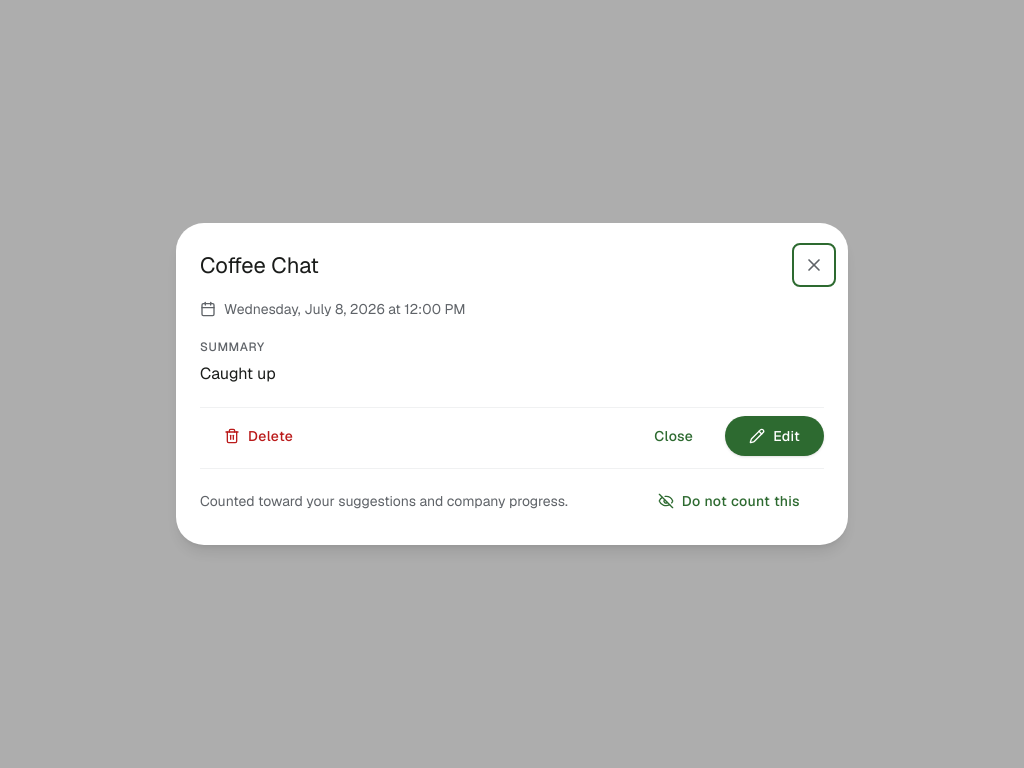
Scenario: interaction type editor › reveals the free-text field only under Other
Click the button "Edit". click: (775, 436)
box: top-left (725, 416), bottom-right (824, 456)
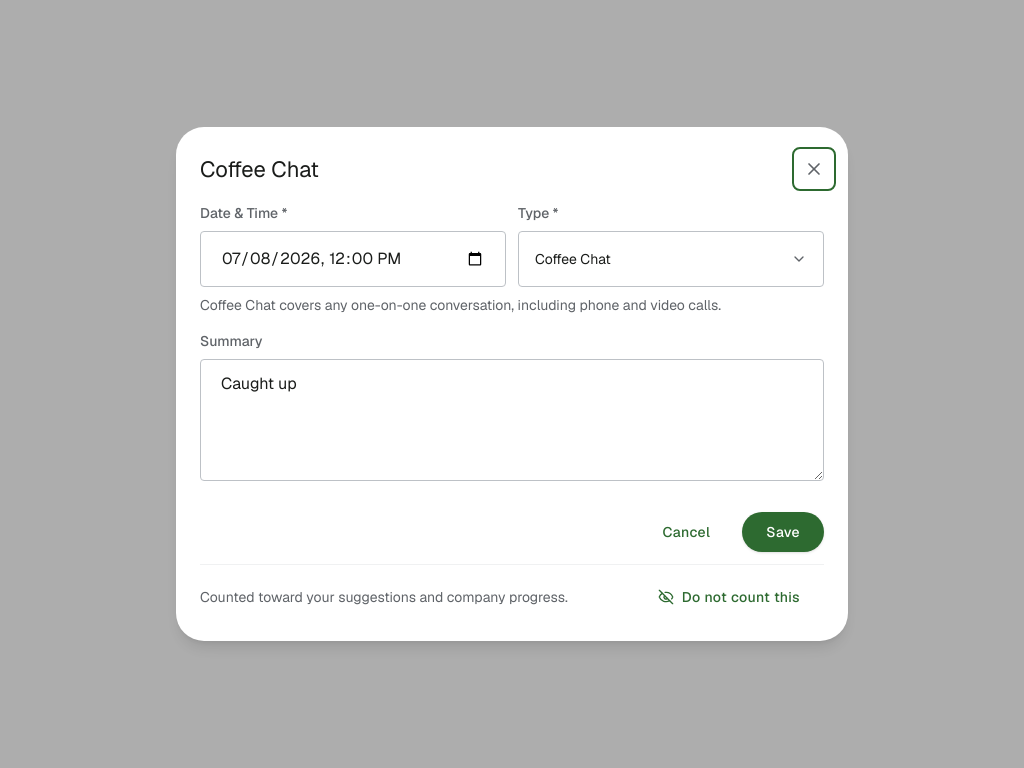
Expected: the field with placeholder "e.g. Alumni panel" is not shown
Click the dropdown named "Interaction type". click: (573, 259)
box: top-left (518, 231), bottom-right (824, 287)
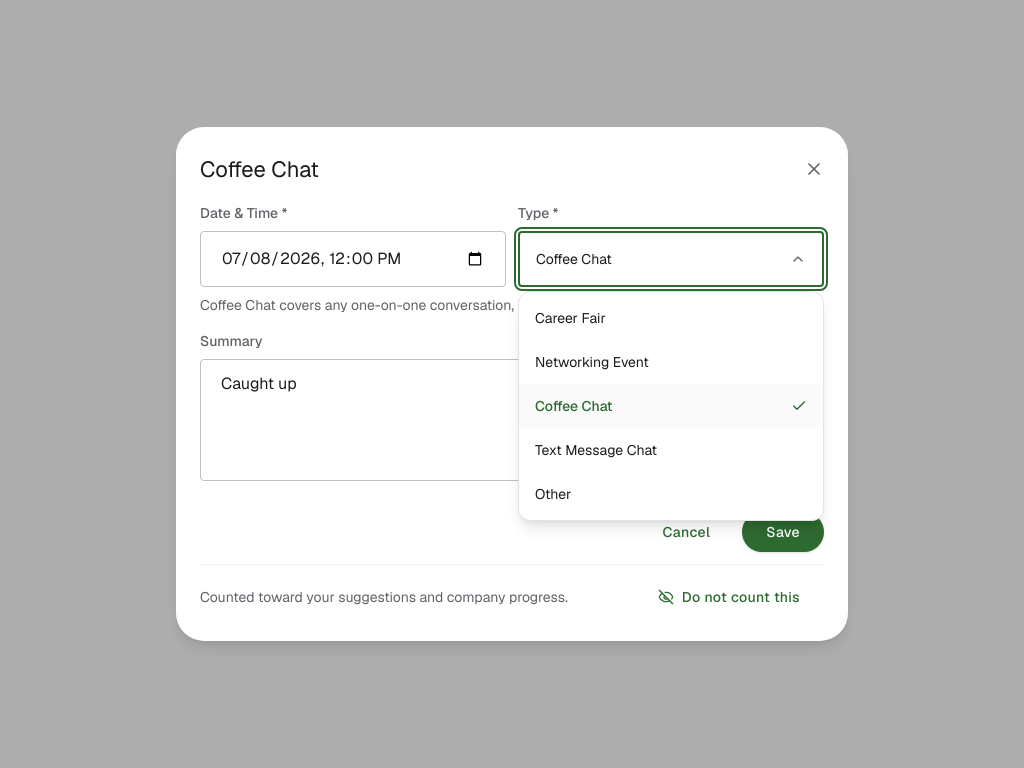
Click the option "Other". click: (553, 494)
box: top-left (535, 485), bottom-right (571, 503)
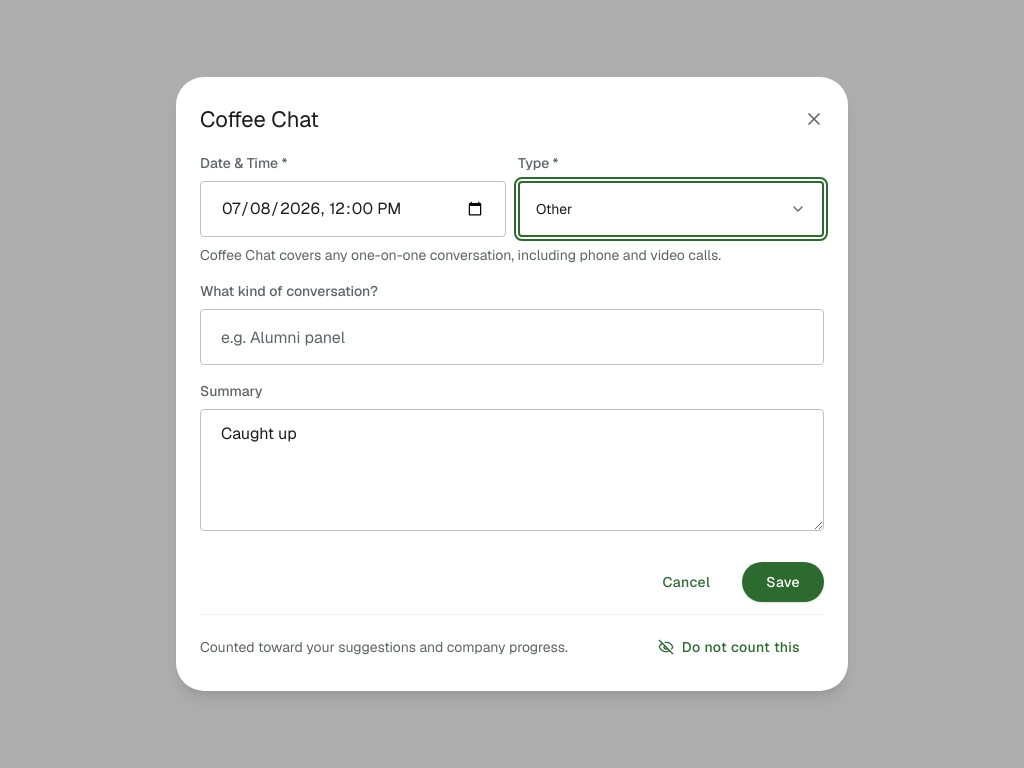
Now the field with placeholder "e.g. Alumni panel" is shown, box top-left (200, 309), bottom-right (824, 365)
